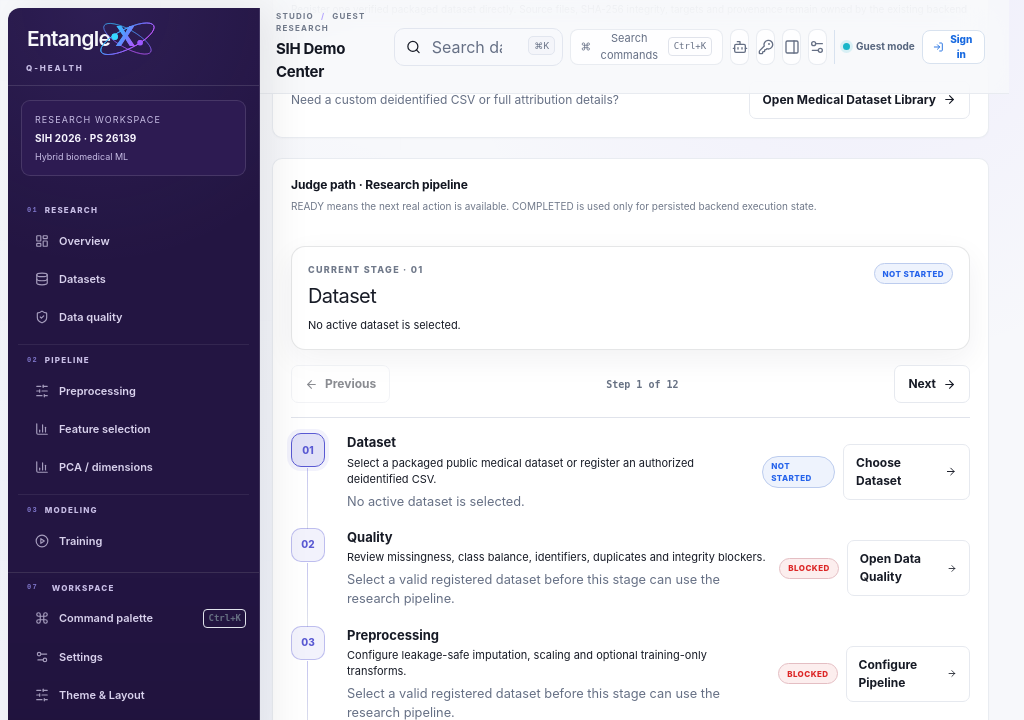
Test: settings and Demo Center readiness › loads with a truthful no-dataset state and verified route actions
(page scrolled)
Expected: the element that starts with "Dataset" shows "NOT STARTED", [771,461,812,483]
Expected: the element that starts with "Quality" shows "BLOCKED", [788,563,830,573]
Click the button "Next" at (932, 384), box [894,365,970,403]
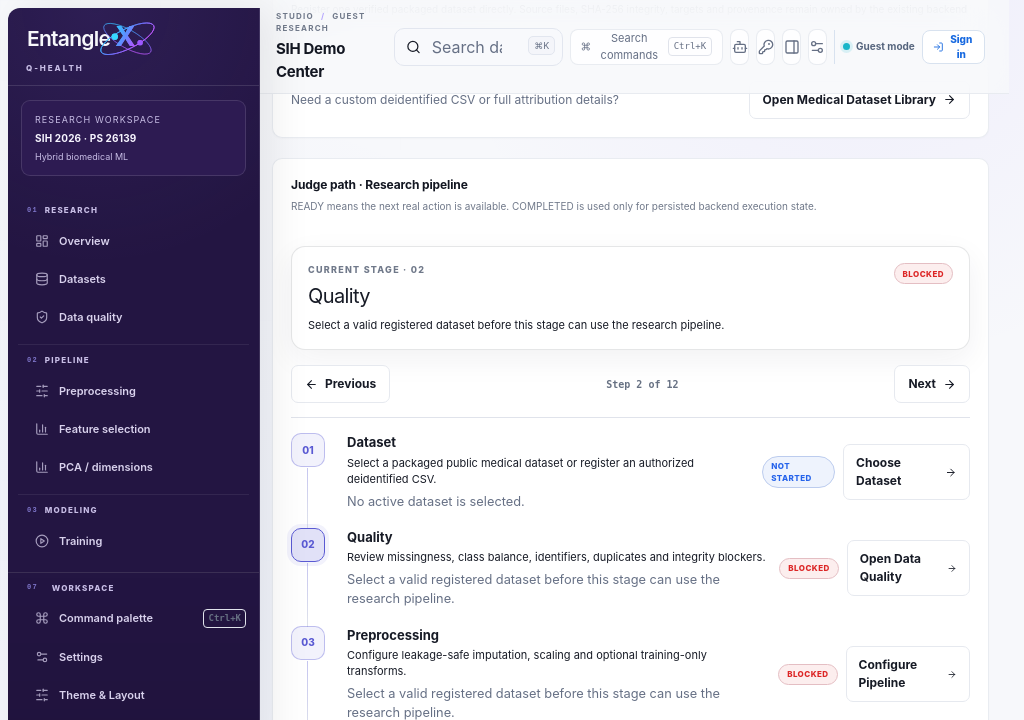
Result: the text "Step 2 of 12" is shown at [606,379,678,390]
Click the button "Previous" at (341, 384), box [291,365,390,403]
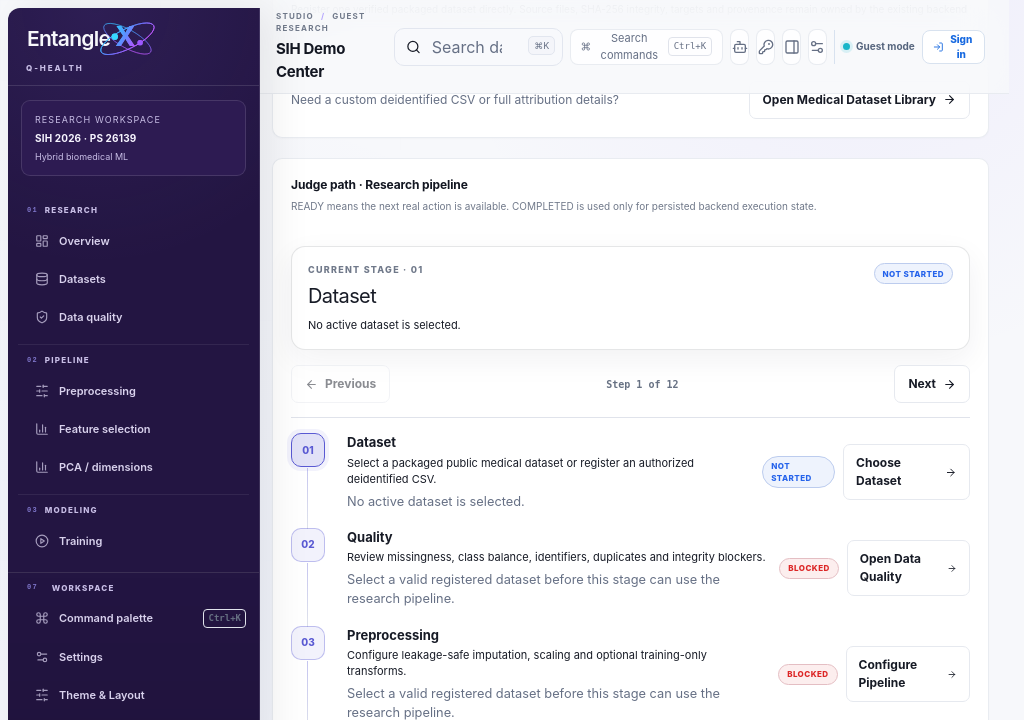
Result: the text "Step 1 of 12" is shown at [606,379,678,390]
